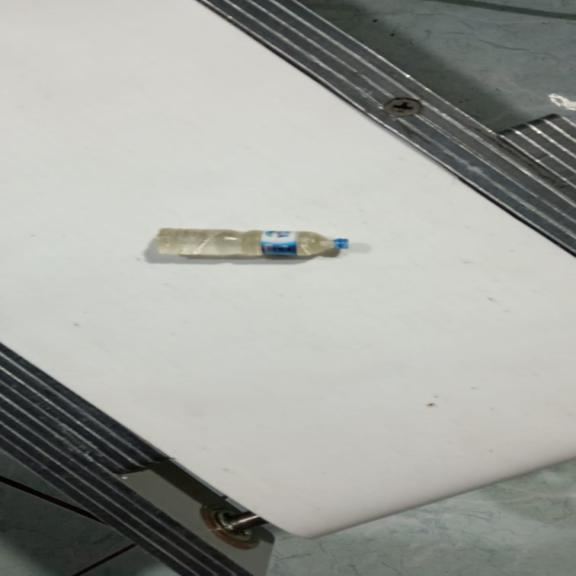Plastik: (157, 228, 348, 256)
